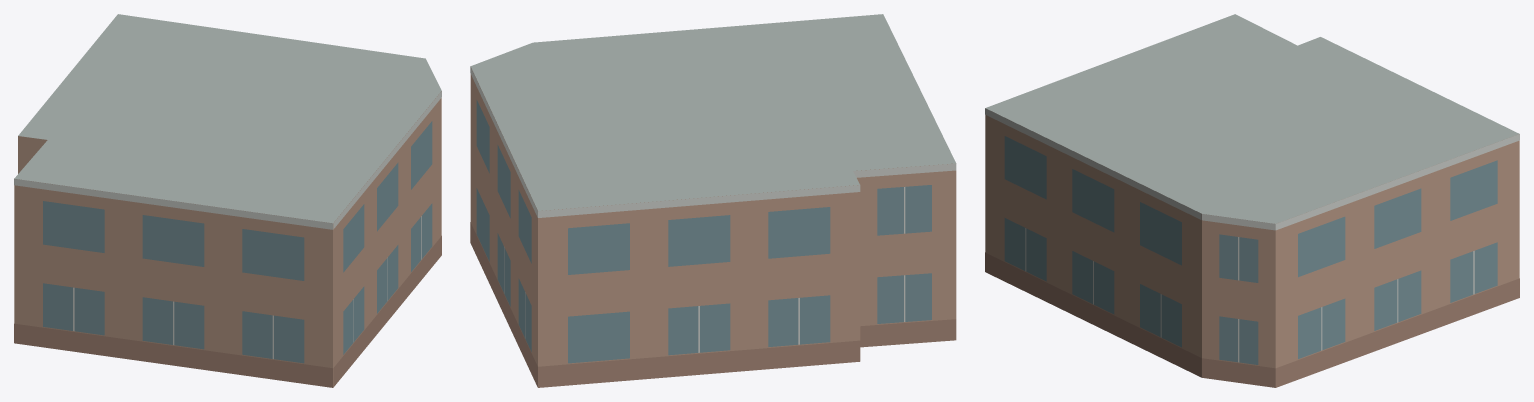
File: survey-upis-32866210.glb
3 views of the same model, side by side, from view 1: azimuth 30°, elevation 25°; view 2: azimuth 150°, elevation 25°; view 3: azimuth 270°, elevation 25° (orthographic). The views are drawn at different scales.
Visible parts, largest first — view 1: survey-upis-32866210.tmp; view 2: survey-upis-32866210.tmp; view 3: survey-upis-32866210.tmp.
Boxes of the visible parts, x1,y1,x2,y2 form: survey-upis-32866210.tmp: [14, 14, 441, 387]; survey-upis-32866210.tmp: [470, 14, 956, 387]; survey-upis-32866210.tmp: [985, 14, 1519, 387].
Size of the model in its own units: 16.76 by 6.1 by 18.03.
